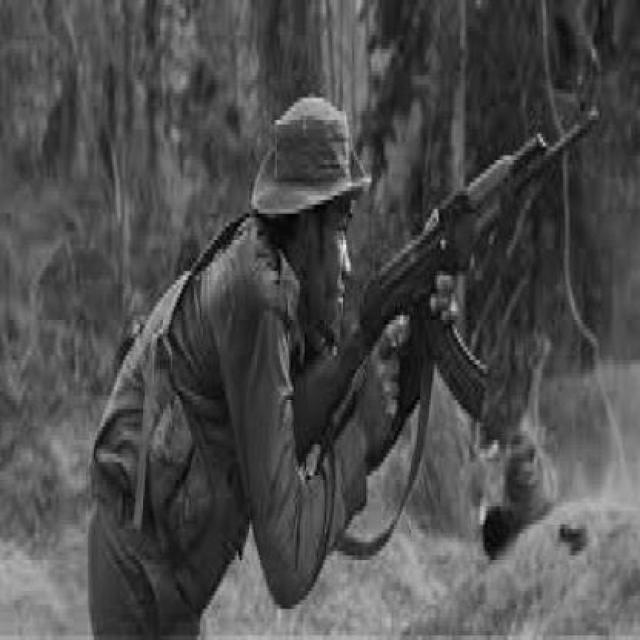weapon: (290, 109, 601, 468)
